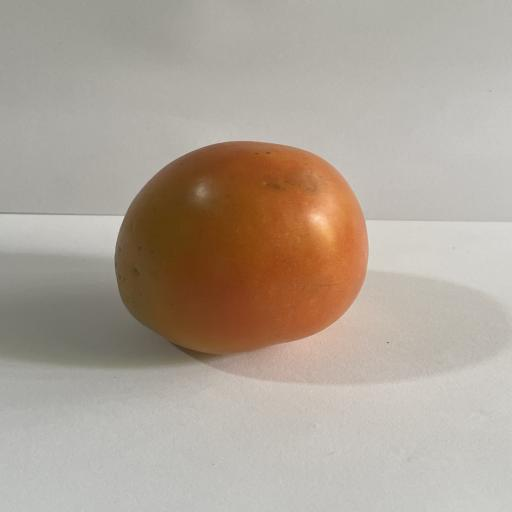unripe: (115, 141, 368, 354)
